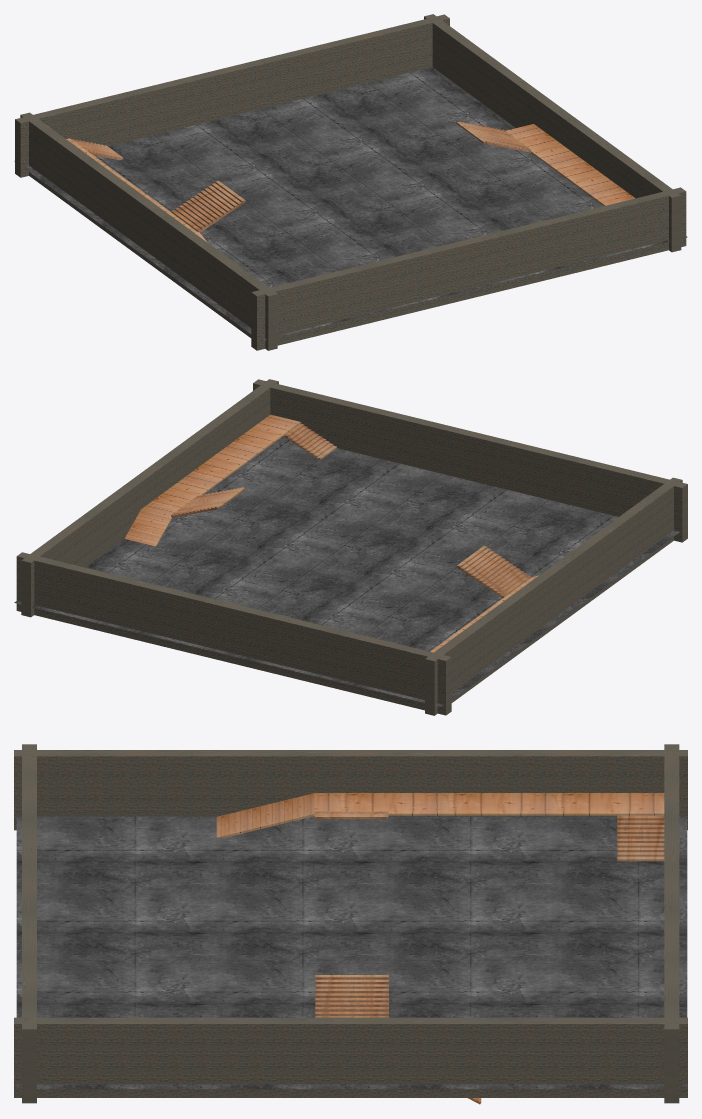
The model's file is playground.fbx.
3 renders of one model, top to bottom at view 1: azimuth 30°, elevation 25°; view 2: azimuth 150°, elevation 25°; view 3: azimuth 270°, elevation 25°, orthographic. The views are drawn at different scales.
Visible parts, largest first — view 1: levelGeometry_collisionTree; view 2: levelGeometry_collisionTree; view 3: levelGeometry_collisionTree.
Boxes of the visible parts, x1,y1,x2,y2 form: levelGeometry_collisionTree: (14, 14, 687, 350); levelGeometry_collisionTree: (14, 379, 687, 715); levelGeometry_collisionTree: (14, 744, 687, 1104).
Size of the model in its own units: 10211 by 10211 by 1452.
Materials: 4 (4 with a texture image).
